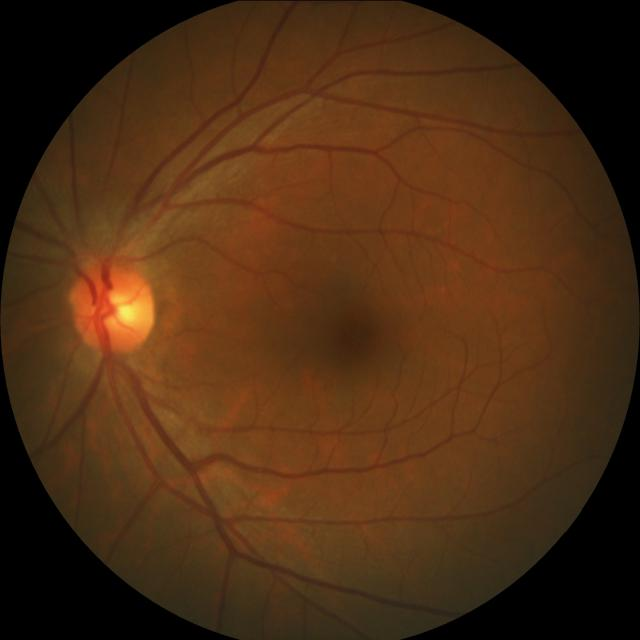OC: (97, 291, 134, 328)
OD: (66, 258, 157, 354)
